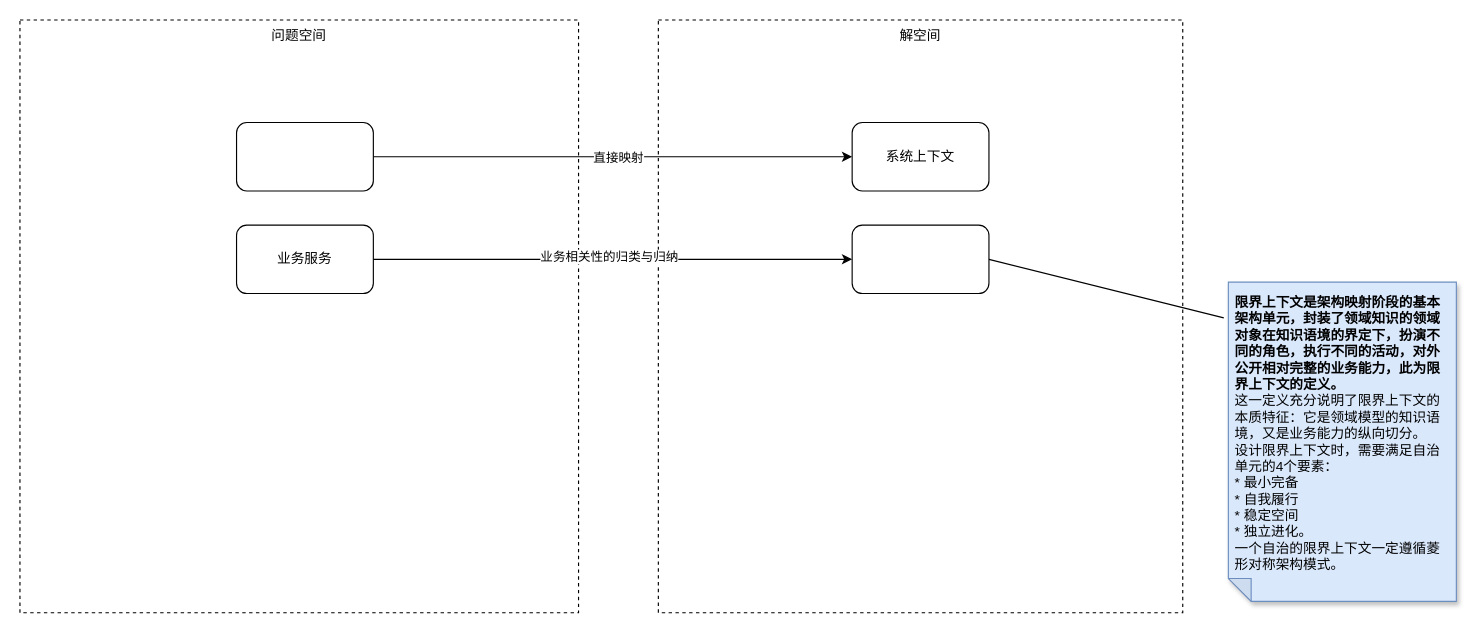
This 1483x633 diagram has some shape labels left out. The shapes that lost their labels are listed below. From the top down, each one's centre as x and y in pixels, then its label:
At pixel 304 156: "利益相关者 系统愿景 系统范围".
At pixel 920 259: "限界上下文".
